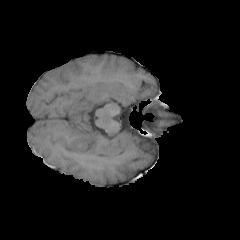glioma: (64, 130, 99, 158)
